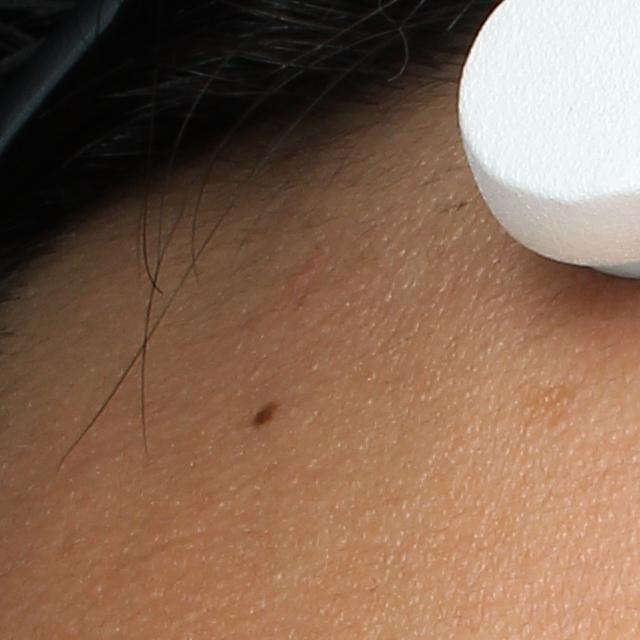nevus: (248, 395, 282, 426)
